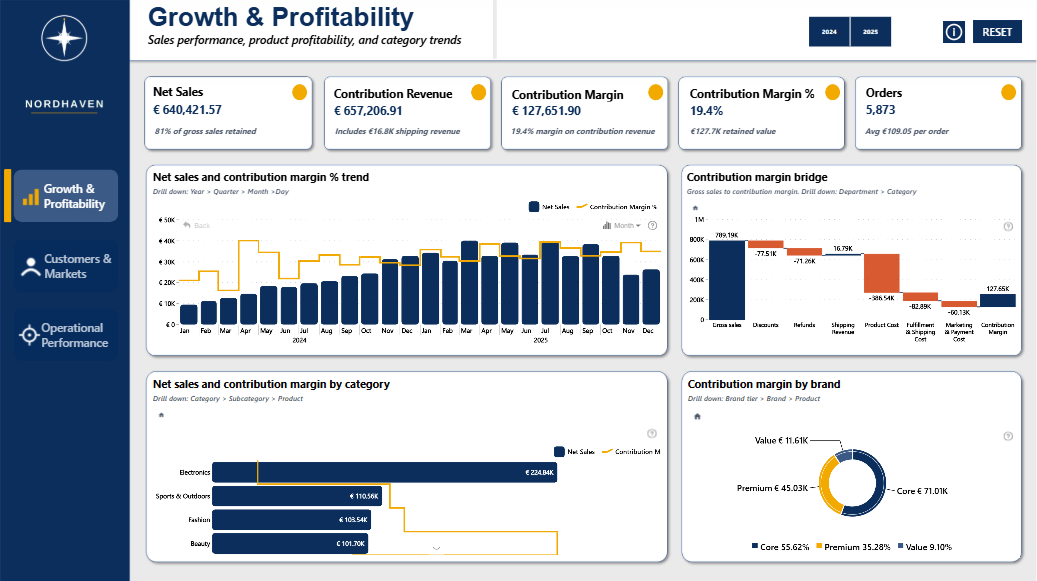

What the dashboard file says about the page in this screenshot:
{"tool":"powerbi","page":{"name":"Growth & Profitability","canvas":[1920,1080],"ordinal":0},"visuals":[{"type":"image","box":[0,0,237.4,237.4],"z":0},{"type":"actionButton","title":"Growth & Profitability","box":[24.2,312.8,196,99.1],"z":0,"group":"g2"},{"type":"group","id":"g1","title":"Group 1","box":[268.4,0,640,119.7],"z":1000},{"type":"textbox","box":[268.4,0,534.9,72.7],"z":1000,"group":"g1"},{"type":"shape","box":[8.2,312.4,14,99.1],"z":1000,"group":"g2"},{"type":"shape","box":[913,0,7.4,109.3],"z":2000},{"type":"textbox","box":[268.4,53.3,640,66.4],"z":2000,"group":"g1"},{"type":"actionButton","title":"Customers & Markets ","box":[24.8,441.8,196.1,99.1],"z":3000},{"type":"actionButton","title":"Operational Performance","box":[24.8,569.8,196.1,99.1],"z":4000},{"type":"group","id":"g2","title":"Group 2","box":[8.2,312.4,211.3,100],"z":5000},{"type":"slicer","fields":{"Values":["LocalDateTable_ca70bc53-79dc-4852-b3f8-6f189456e860.Year"]},"box":[1472.2,24.1,201.9,68.5],"z":6000},{"type":"cardVisual","fields":{"Data":["1_Calculations.Net Sales"]},"box":[253.2,119.1,306.4,134],"z":7000},{"type":"ZoomChartsDrillDownTimelinePro7F6C01BA1C534E9AB4A6BCCB44F591","title":"Net sales and contribution margin % trend","fields":{"Values1":["1_Calculations.Net Sales"],"Category":["DimDate.Date.Variation.Date Hierarchy.Year","DimDate.Date.Variation.Date Hierarchy.Quarter","DimDate.Date.Variation.Date Hierarchy.Month","DimDate.Date.Variation.Date Hierarchy.Day"],"DateValue":["Min(DimDate.Date)"],"Values2":["1_Calculations.Contribution Margin %"]},"box":[277.2,312.7,951.9,339.2],"z":8000},{"type":"cardVisual","fields":{"Data":["1_Calculations.Orders"]},"box":[1574.4,121.1,306.7,132.2],"z":9000},{"type":"shape","box":[871.6,155.6,28.4,30.9],"z":10000},{"type":"cardVisual","fields":{"Data":["1_Calculations.Contribution Margin"]},"box":[918.9,123.3,306.7,130],"z":11000},{"type":"shape","box":[1854.3,155.4,28.3,30.4],"z":12000},{"type":"cardVisual","fields":{"Data":["1_Calculations.Contribution Margin %"]},"box":[1247.8,122.2,306.7,131.1],"z":13000},{"type":"shape","box":[541.3,155.4,28.3,30.4],"z":14000},{"type":"cardVisual","fields":{"Data":["1_Calculations.Contribution Revenue"]},"box":[588.9,122.2,306.7,131.1],"z":15000},{"type":"shape","box":[1527.2,155.4,28.3,30.4],"z":16000},{"type":"shape","box":[1200,155.1,28.6,30.6],"z":17000},{"type":"card","fields":{"Values":["1_Calculations.Net Sales Context"]},"box":[277.1,218.8,204.2,52.1],"z":18000},{"type":"card","fields":{"Values":["1_Calculations.Contribution Revenue Context"]},"box":[603.3,218.9,263.3,51.1],"z":19000},{"type":"ZoomChartsAdvancedWaterfallE77E4ED357DC402ABA005987437CF900","title":"Contribution margin bridge","fields":{"Category":["WaterfallSteps.Step","DimProduct.Department","DimProduct.Category"],"Values1":["1_Calculations.Waterfall Value"],"Values3":["Sum(WaterfallSteps.SetOrder)"]},"box":[1267.1,312.9,622.4,338.8],"z":20000},{"type":"card","fields":{"Values":["1_Calculations.Orders Context"]},"box":[1593.3,218.9,172.2,51.1],"z":21000},{"type":"ZoomChartsDrillDownComboBarProE77E4ED357DC402ABA005987437CF8","title":"Net sales and contribution margin by category","fields":{"Category":["DimProduct.Category","DimProduct.Subcategory","DimProduct.ProductName"],"Values1":["1_Calculations.Net Sales"],"Values2":["1_Calculations.Contribution Margin"]},"box":[277.6,695.9,951,336.7],"z":22000},{"type":"card","fields":{"Values":["1_Calculations.Contribution Margin % Context"]},"box":[1267.8,218.9,176.7,51.1],"z":23000},{"type":"ZoomChartsPieChartPaidE77E4ED357DC402ABA005987437CF500","title":"Contribution margin by brand","fields":{"Category":["DimProduct.BrandTier","DimProduct.Brand","DimProduct.ProductName"],"Values":["1_Calculations.Contribution Margin"]},"box":[1268.1,695.7,620.3,336.2],"z":24000},{"type":"card","fields":{"Values":["1_Calculations.Contribution Margin Context"]},"box":[938,218,280,52],"z":25000},{"type":"actionButton","title":"Reset","box":[1801.9,37,90.7,42.6],"z":26000},{"type":"actionButton","title":"info button","box":[1746.3,38.9,40.7,40.7],"z":27000}]}

Visuals, with their boxes on the page's 1920x1080 design canvas (x1, y1, x2, y2). These are canvas units, not pixel positions in the 1037x581 screenshot, which may show the page scaled, cropped or inside an application window:
image: <region>0, 0, 237, 237</region>
"Growth & Profitability" actionButton: <region>24, 313, 220, 412</region>
"Group 1" group: <region>268, 0, 908, 120</region>
textbox: <region>268, 0, 803, 73</region>
shape: <region>8, 312, 22, 412</region>
shape: <region>913, 0, 920, 109</region>
textbox: <region>268, 53, 908, 120</region>
"Customers & Markets " actionButton: <region>25, 442, 221, 541</region>
"Operational Performance" actionButton: <region>25, 570, 221, 669</region>
"Group 2" group: <region>8, 312, 220, 412</region>
slicer - LocalDateTable_ca70bc53-79dc-4852-b3f8-6f189456e860.Year: <region>1472, 24, 1674, 93</region>
cardVisual - 1_Calculations.Net Sales: <region>253, 119, 560, 253</region>
"Net sales and contribution margin % trend" ZoomChartsDrillDownTimelinePro7F6C01BA1C534E9AB4A6BCCB44F591: <region>277, 313, 1229, 652</region>
cardVisual - 1_Calculations.Orders: <region>1574, 121, 1881, 253</region>
shape: <region>872, 156, 900, 186</region>
cardVisual - 1_Calculations.Contribution Margin: <region>919, 123, 1226, 253</region>
shape: <region>1854, 155, 1883, 186</region>
cardVisual - 1_Calculations.Contribution Margin %: <region>1248, 122, 1554, 253</region>
shape: <region>541, 155, 570, 186</region>
cardVisual - 1_Calculations.Contribution Revenue: <region>589, 122, 896, 253</region>
shape: <region>1527, 155, 1556, 186</region>
shape: <region>1200, 155, 1229, 186</region>
card - 1_Calculations.Net Sales Context: <region>277, 219, 481, 271</region>
card - 1_Calculations.Contribution Revenue Context: <region>603, 219, 867, 270</region>
"Contribution margin bridge" ZoomChartsAdvancedWaterfallE77E4ED357DC402ABA005987437CF900: <region>1267, 313, 1890, 652</region>
card - 1_Calculations.Orders Context: <region>1593, 219, 1766, 270</region>
"Net sales and contribution margin by category" ZoomChartsDrillDownComboBarProE77E4ED357DC402ABA005987437CF8: <region>278, 696, 1229, 1033</region>
card - 1_Calculations.Contribution Margin % Context: <region>1268, 219, 1444, 270</region>
"Contribution margin by brand" ZoomChartsPieChartPaidE77E4ED357DC402ABA005987437CF500: <region>1268, 696, 1888, 1032</region>
card - 1_Calculations.Contribution Margin Context: <region>938, 218, 1218, 270</region>
"Reset" actionButton: <region>1802, 37, 1893, 80</region>
"info button" actionButton: <region>1746, 39, 1787, 80</region>
